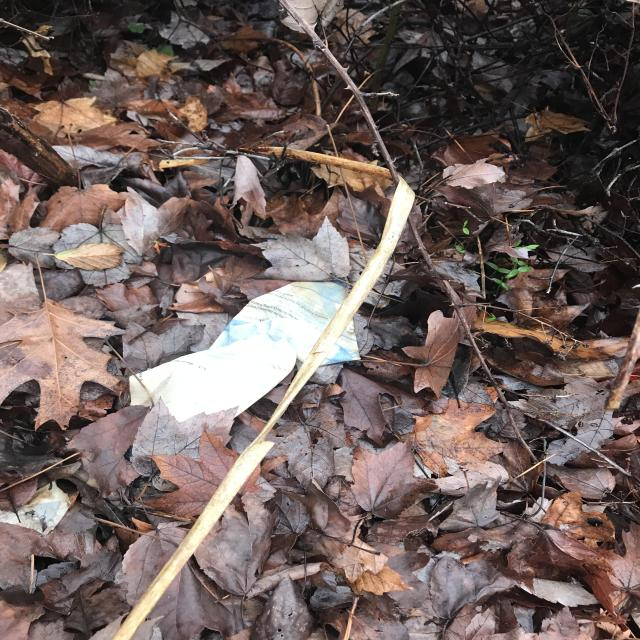litter: (128, 277, 362, 424)
